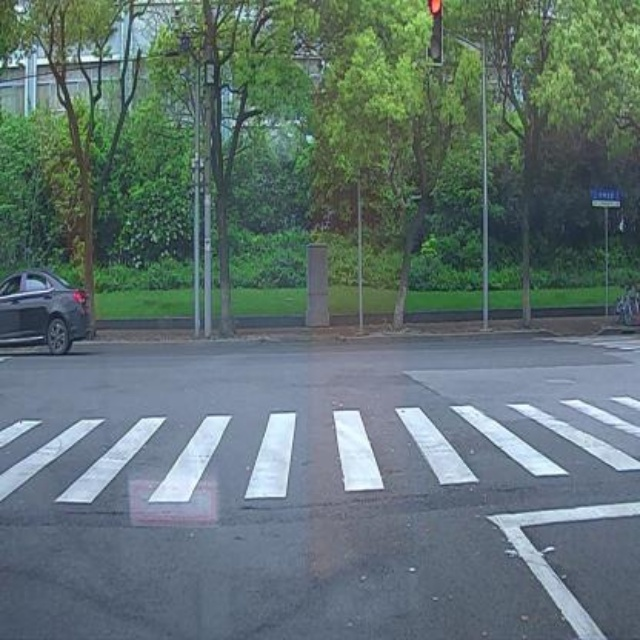Đèn đỏ: (426, 0, 447, 68)
